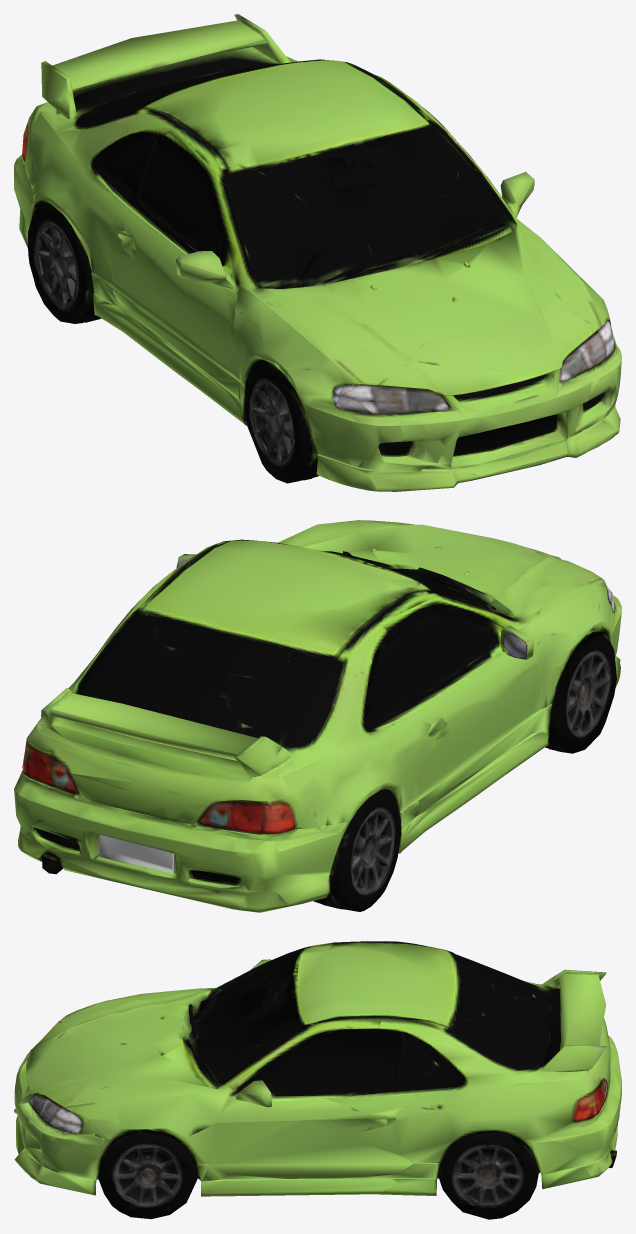
Rendered from tuner_lod.glb.
3 views of the same model, one above another, from view 1: azimuth 30°, elevation 25°; view 2: azimuth 150°, elevation 25°; view 3: azimuth 270°, elevation 25° (orthographic). The views are drawn at different scales.
Parts seen in each view (by area): view 1: material; view 2: material; view 3: material.
Boxes of the visible parts, x1,y1,x2,y2 form: material: [14, 14, 621, 491]; material: [14, 520, 621, 912]; material: [14, 941, 621, 1219].
Bounding box in the file's own units: 0.531 × 0.339 × 0.9994.
Materials: 1 (1 with a texture image).
